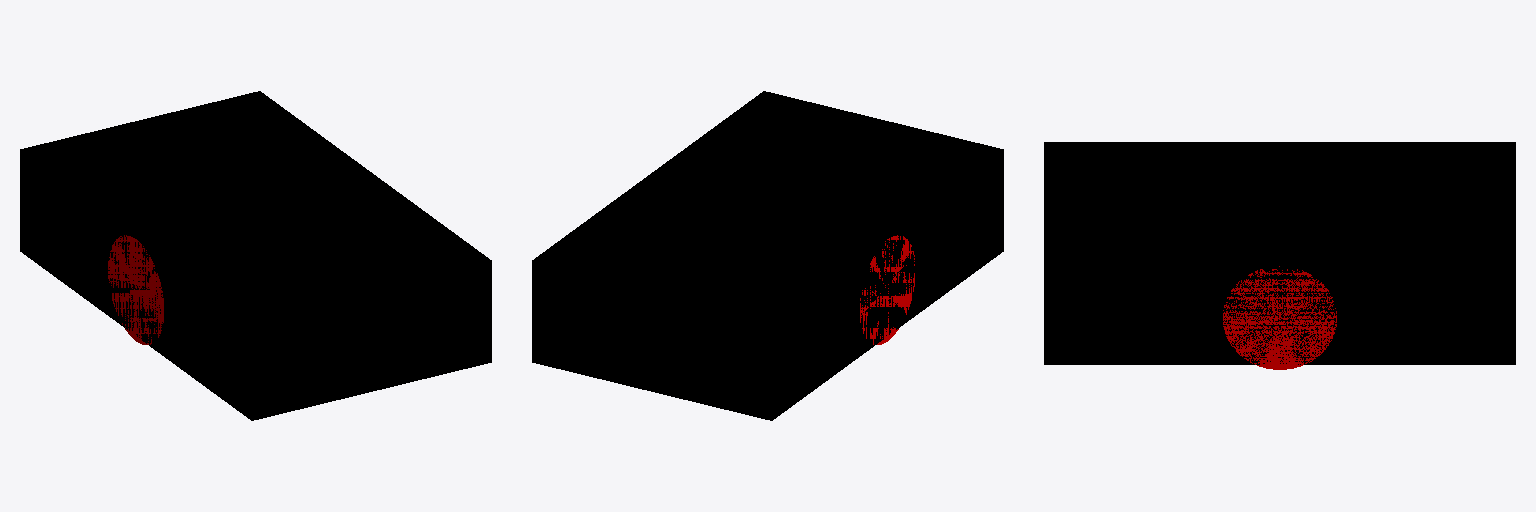
URDF robot description (my_robot):
<robot name="my_robot">

	<link name="base_link">
        <visual>
            <geometry>
                <box size="0.49 .82 .2"/>
            </geometry>
            <origin rpy="0 0 0" xyz="0 0 0.01"/>
            <material name="gray">
                <color rgba="0 0 0 0.6"/>
            </material>
        </visual>
    </link>

    <link name="wheel_left">
        <visual>
            <geometry>
                <cylinder length="0.05" radius="0.1"/>
            </geometry>
            <origin rpy="0 1.57079633 0" xyz="0.22 0 0"/>
            <material name="black">
                <color rgba="1 0 0 1"/>
            </material>
        </visual>
    </link>

    <link name="wheel_right">
        <visual>
            <geometry>
                <cylinder length="0.05" radius="0.1"/>
            </geometry>
            <origin rpy="0 1.57079633 0" xyz="-0.22 0 0"/>
            <material name="black"/>
        </visual>
    </link>

    <joint name="base_to_wheel_left" type="continuous">
        <parent link="base_link"/>
        <child link="wheel_left"/>
        <origin xyz="0 0 0"/>
        <axis xyz="1 0 0"/>
    </joint>

    <joint name="base_to_wheel_right" type="continuous">
        <parent link="base_link"/>
        <child link="wheel_right"/>     
        <origin xyz="0 0 0"/>
        <axis xyz="1 0 0"/>
    </joint>

</robot>

--- What the picture shows (computed from the rendered views, not written in the file) ---
Views: 3 orthographic renders of the robot side by side, from view 1: azimuth 30°, elevation 25°; view 2: azimuth 150°, elevation 25°; view 3: azimuth 270°, elevation 25°.
Model my_robot with 3 links and 2 joints (2 continuous), rooted at base_link, posed every joint at zero.
Visible links, largest first — view 1: base_link, wheel_right; view 2: base_link, wheel_right; view 3: base_link, wheel_left.
Link boxes in pixels (<box>): base_link: <box>20,91,491,420</box>; wheel_right: <box>108,235,163,344</box>; base_link: <box>532,91,1003,420</box>; wheel_right: <box>860,235,914,344</box>; base_link: <box>1044,142,1515,364</box>; wheel_left: <box>1223,266,1336,369</box>.
Bounding box of the posed robot: 0.49 × 0.82 × 0.21 m (x, y, z).
Geometry: primitives only (box / cylinder / sphere), no mesh files.